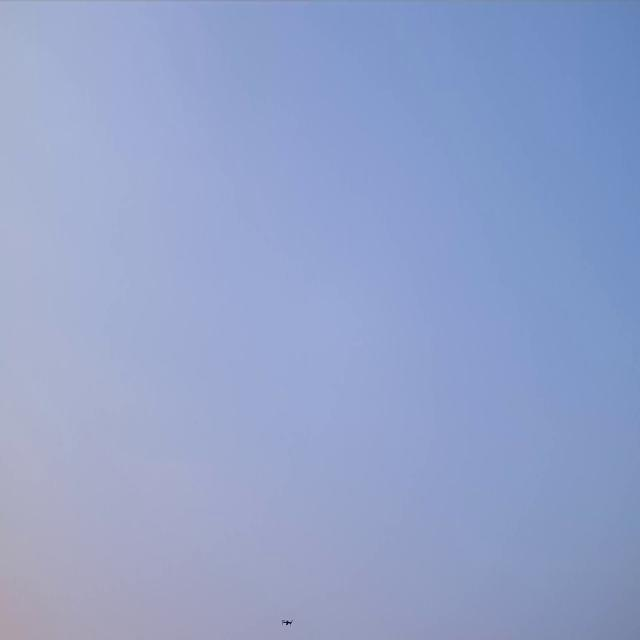UAV: (278, 616, 294, 628)
